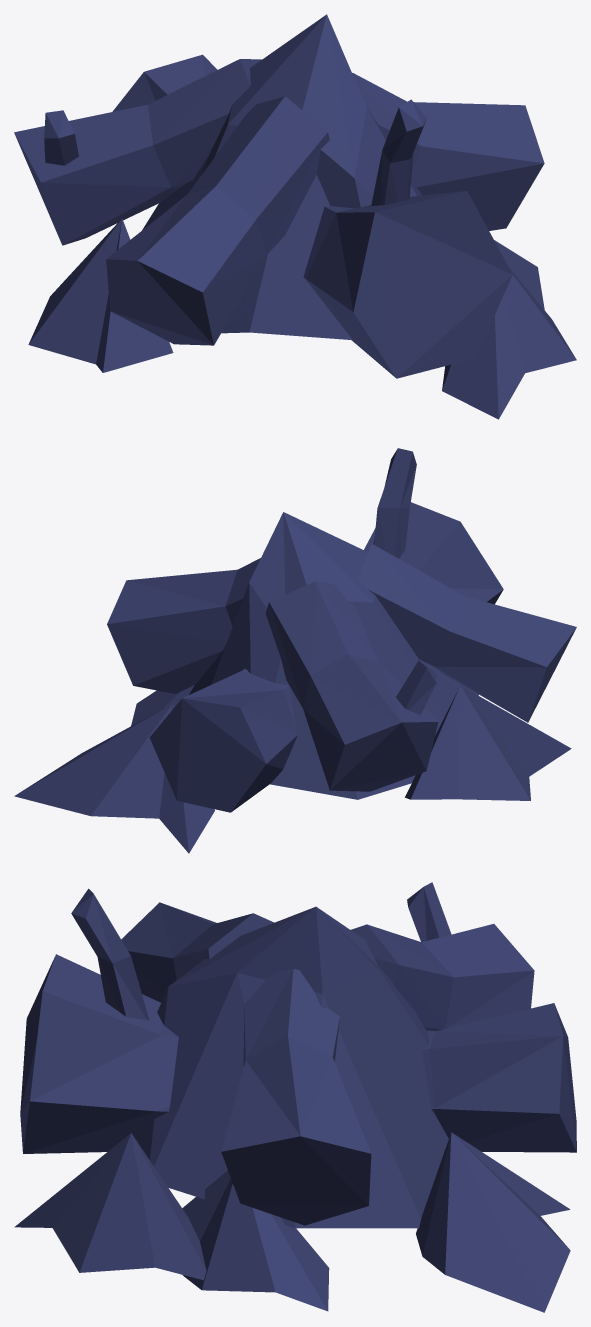
Rendered from Obj_BonfireMesh.FBX.
The picture shows the model from 3 angles, top to bottom: view 1: azimuth 30°, elevation 25°; view 2: azimuth 150°, elevation 25°; view 3: azimuth 270°, elevation 25°; orthographic projection. The views are drawn at different scales.
Parts seen in each view (by area): view 1: Pyramid001; view 2: Pyramid001; view 3: Pyramid001.
Boxes of the visible parts, x1,y1,x2,y2 form: Pyramid001: [14, 14, 576, 419]; Pyramid001: [14, 448, 576, 853]; Pyramid001: [14, 882, 576, 1312].
Size of the model in its own units: 99.18 by 59.64 by 95.5.
